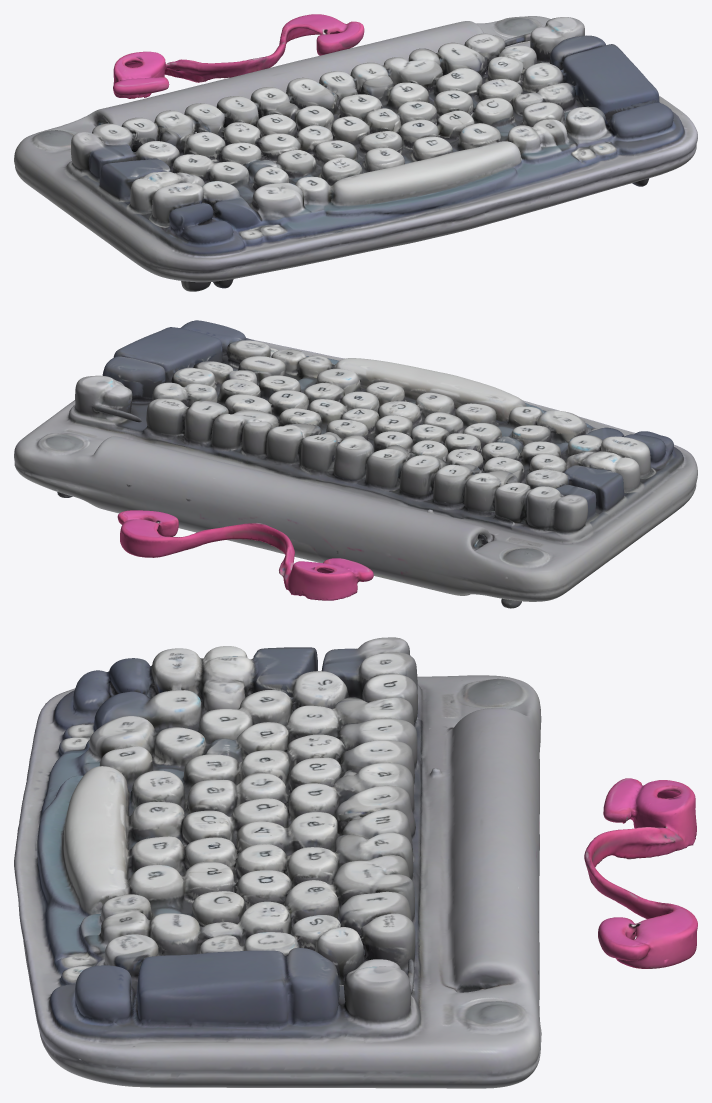
Rendered from keyboard.glb.
3 views of the same model, one above another, from view 1: azimuth 30°, elevation 25°; view 2: azimuth 150°, elevation 25°; view 3: azimuth 270°, elevation 25° (orthographic). The views are drawn at different scales.
Bounding box in the file's own units: 58715 × 8730 × 44674.
1 material, 1 textured.
